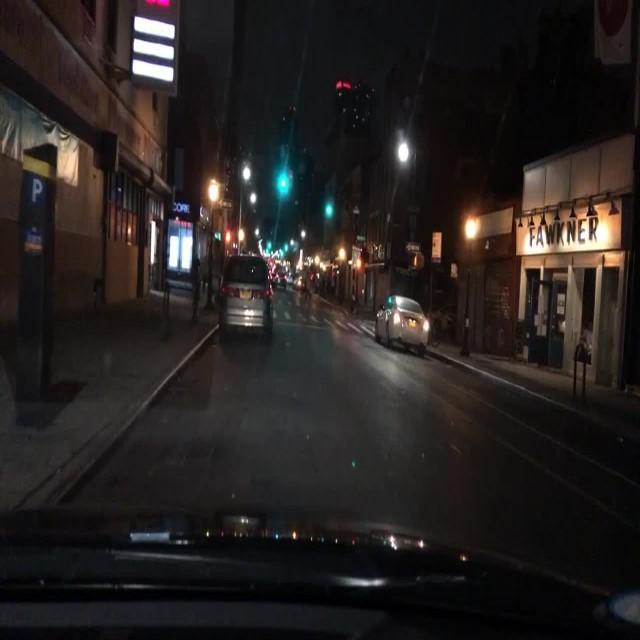normal: (217, 255, 273, 339), (375, 294, 431, 353)
